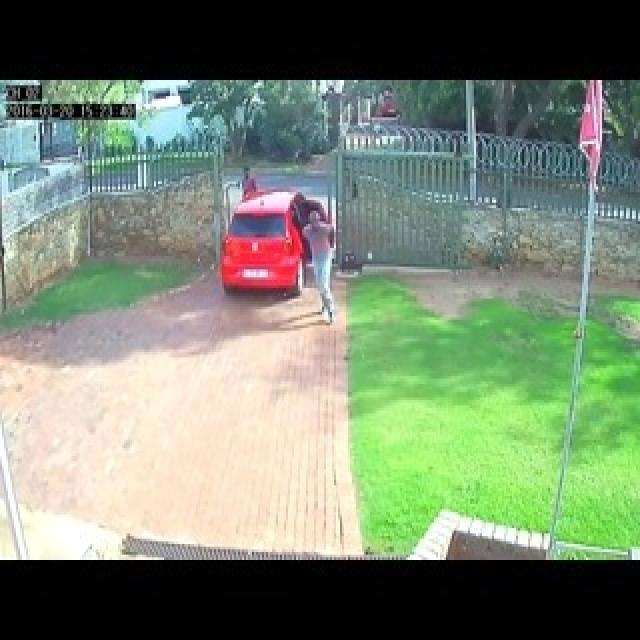thief: (291, 187, 348, 309), (230, 159, 272, 214)
